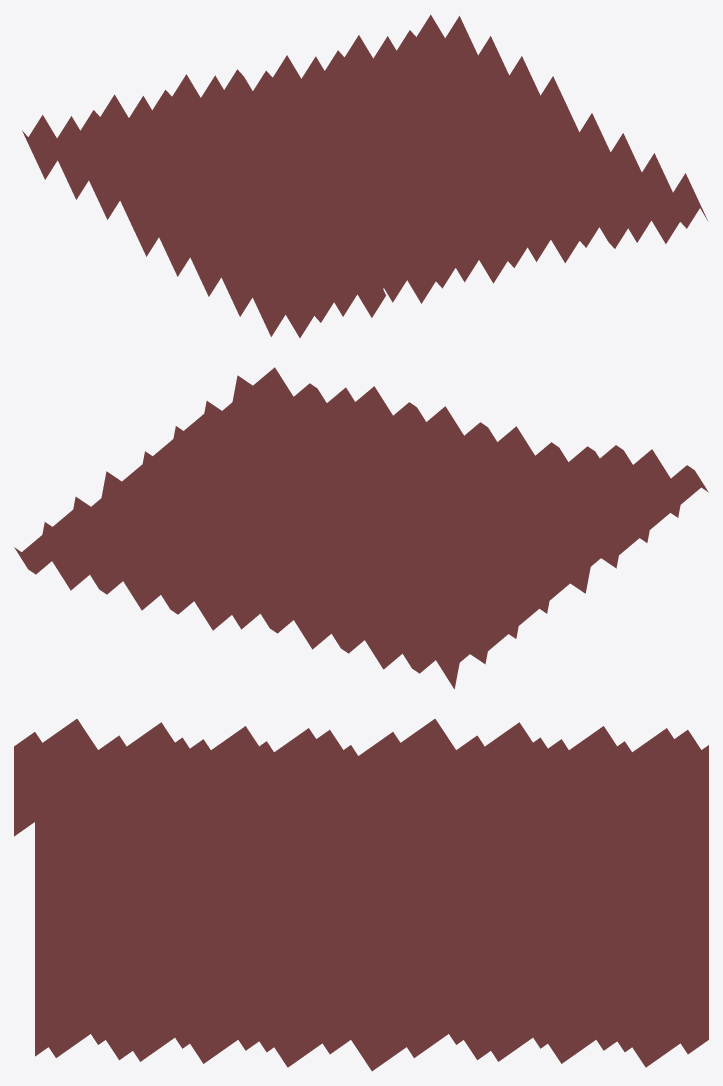
Rendered from sofa.glb.
3 renders of one model, top to bottom at view 1: azimuth 30°, elevation 25°; view 2: azimuth 150°, elevation 25°; view 3: azimuth 270°, elevation 25°, orthographic. The views are drawn at different scales.
Parts seen in each view (by area): view 1: sofa; view 2: sofa; view 3: sofa.
Part boxes in pixels (bbox=[...]): sofa: bbox=[22, 14, 708, 337]; sofa: bbox=[14, 367, 708, 689]; sofa: bbox=[14, 719, 708, 1071].
Size of the model in its own units: 1 by 0.0941 by 1.
Materials: 1 (1 with a texture image).
